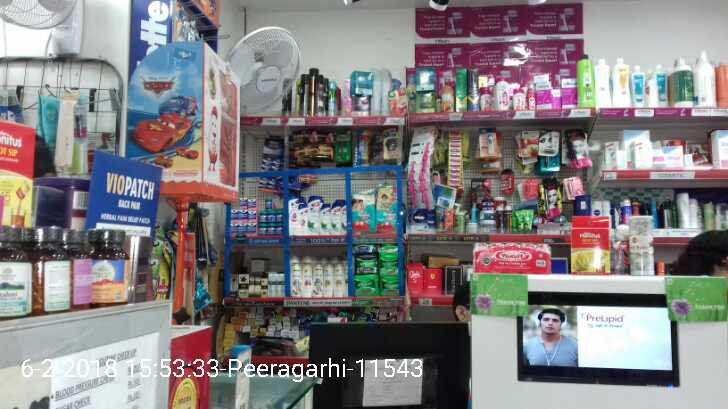vicks: (228, 197, 285, 238)
